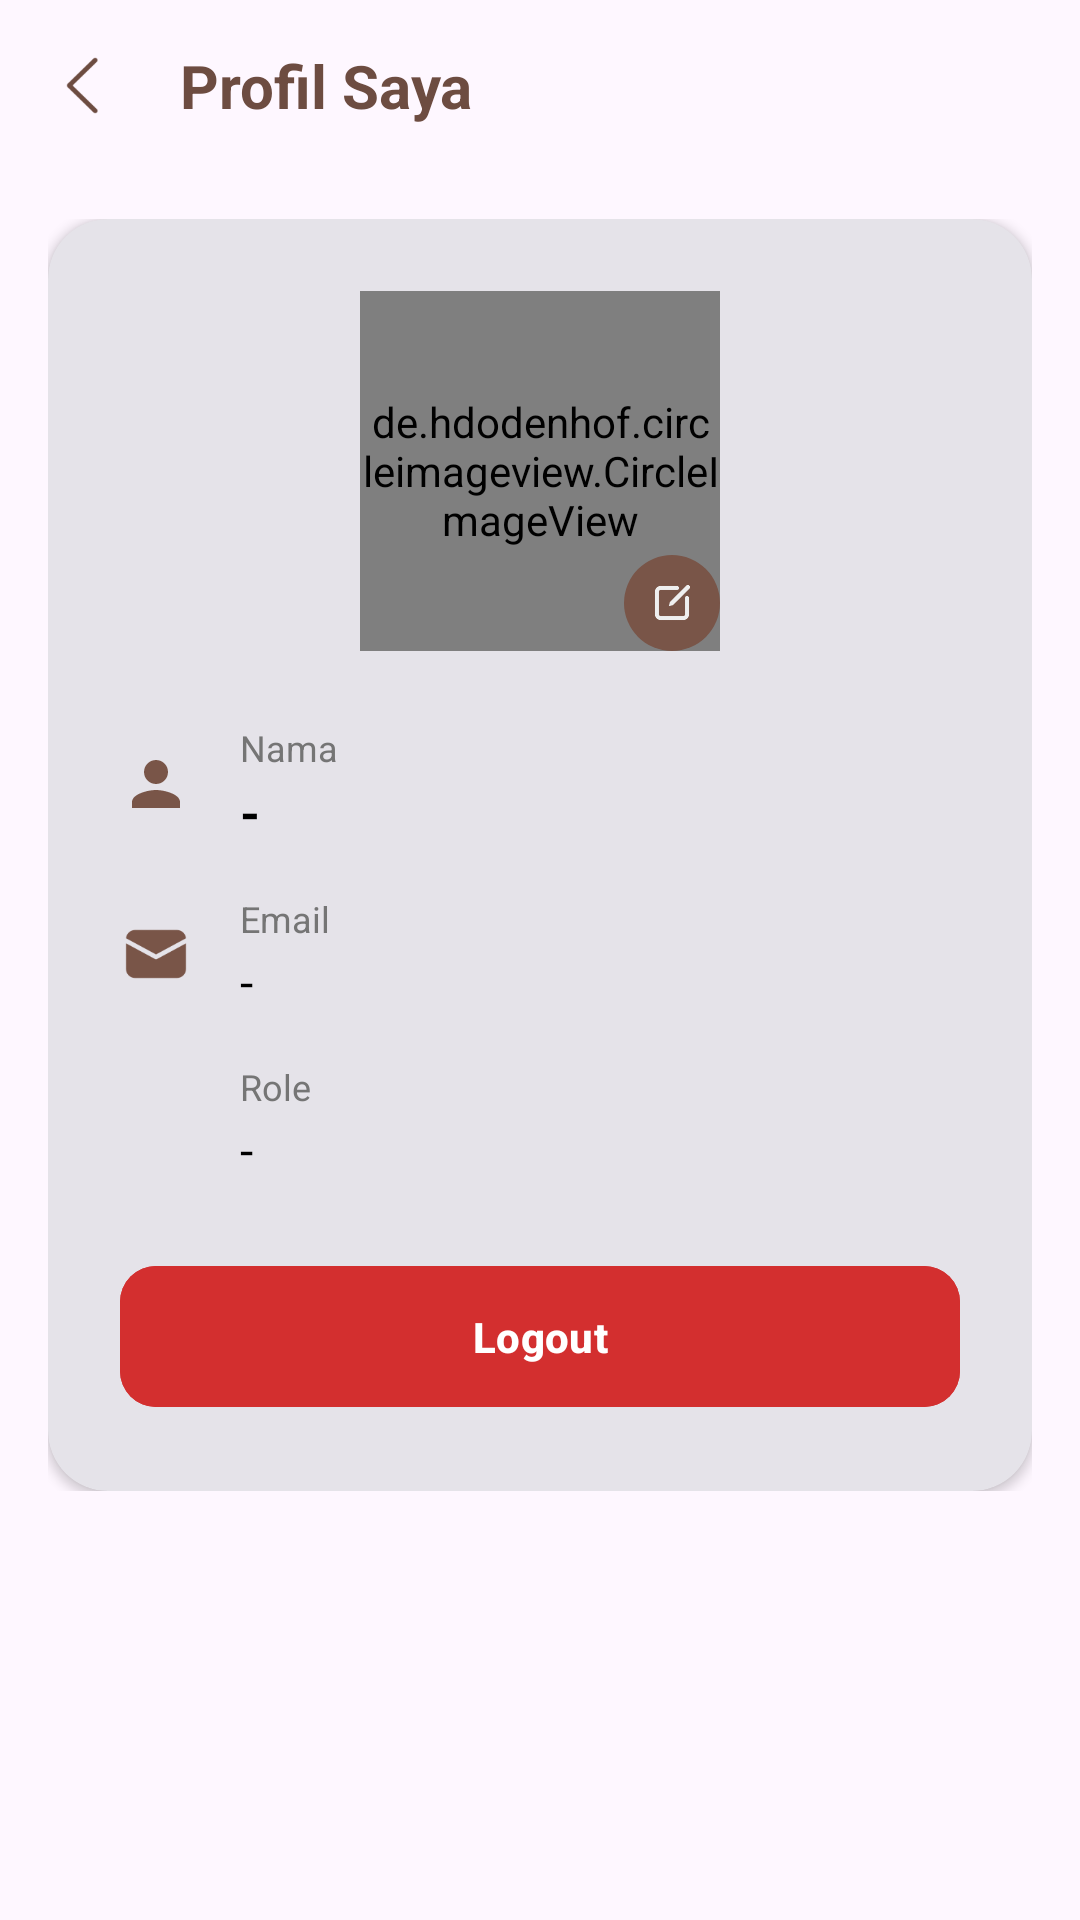

Screen size 1080×1920. Icon name, then its center in pixels as point (x, y):
Edit Foto: point (672, 603)
Kembali: point (82, 85)
